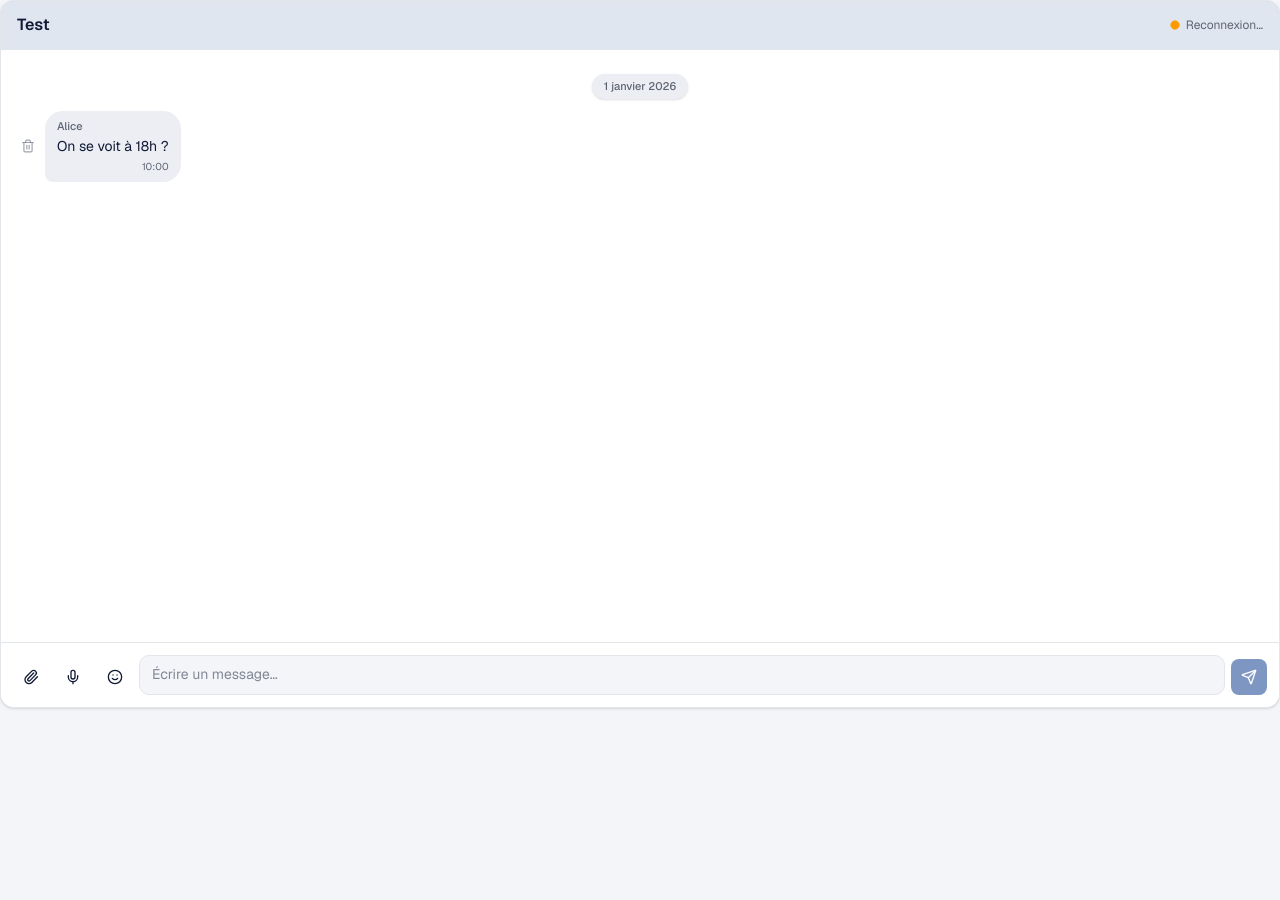
it: ChatConversation — répondre et transférer un message (issue #268) › opens reply and forward actions after a long press on a message
The image size is (1280, 900).
Expected: the text "On se voit à 18h ?" is shown, [57,137,169,155]
Right-click the text "On se voit à 18h ?".
right_click(99, 146)  # box [17,110,181,182]
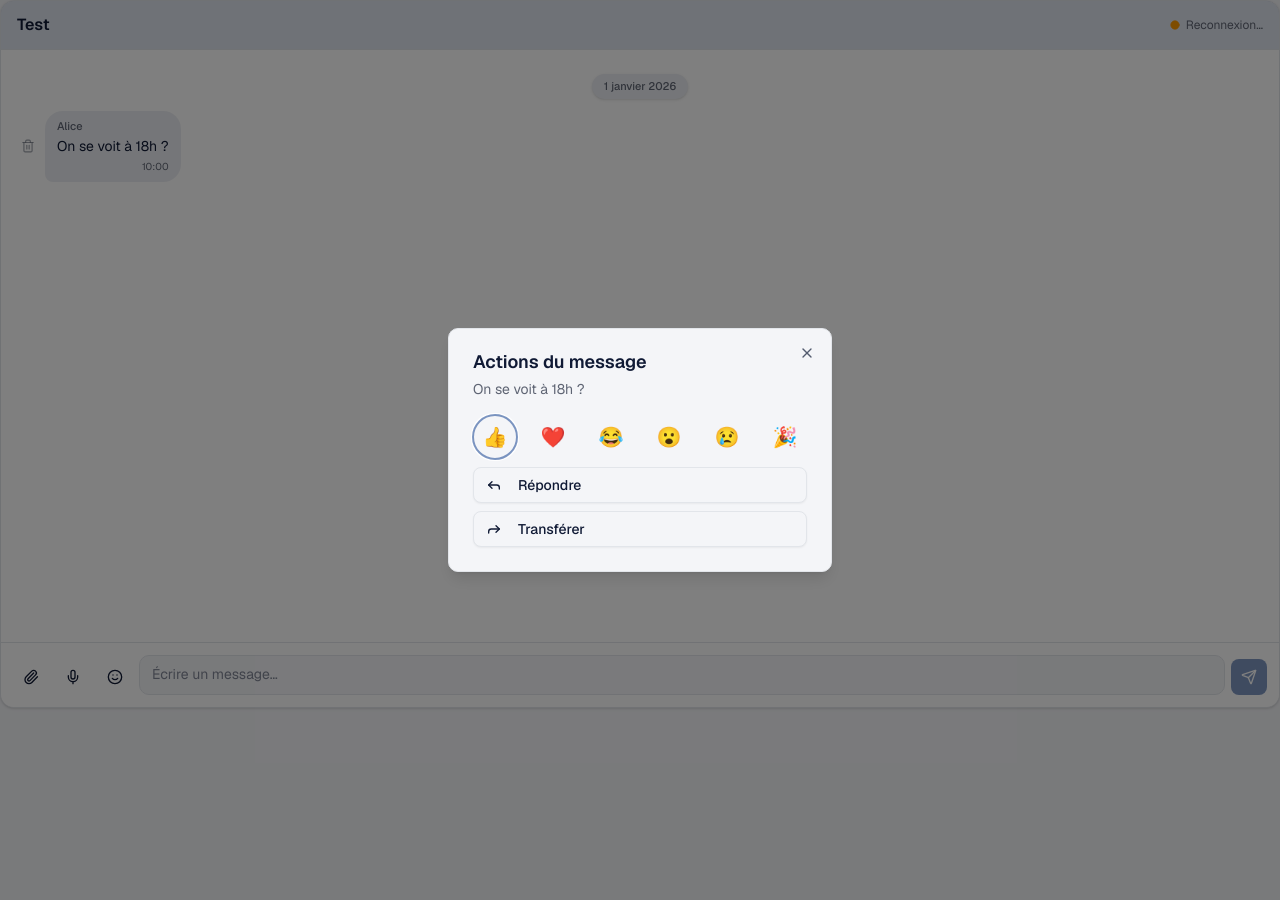
Now the button "Répondre" is shown
Now the button "Transférer" is shown, box [473,511,807,547]
Click the button "Répondre".
click(550, 485)  # box [473,467,807,503]
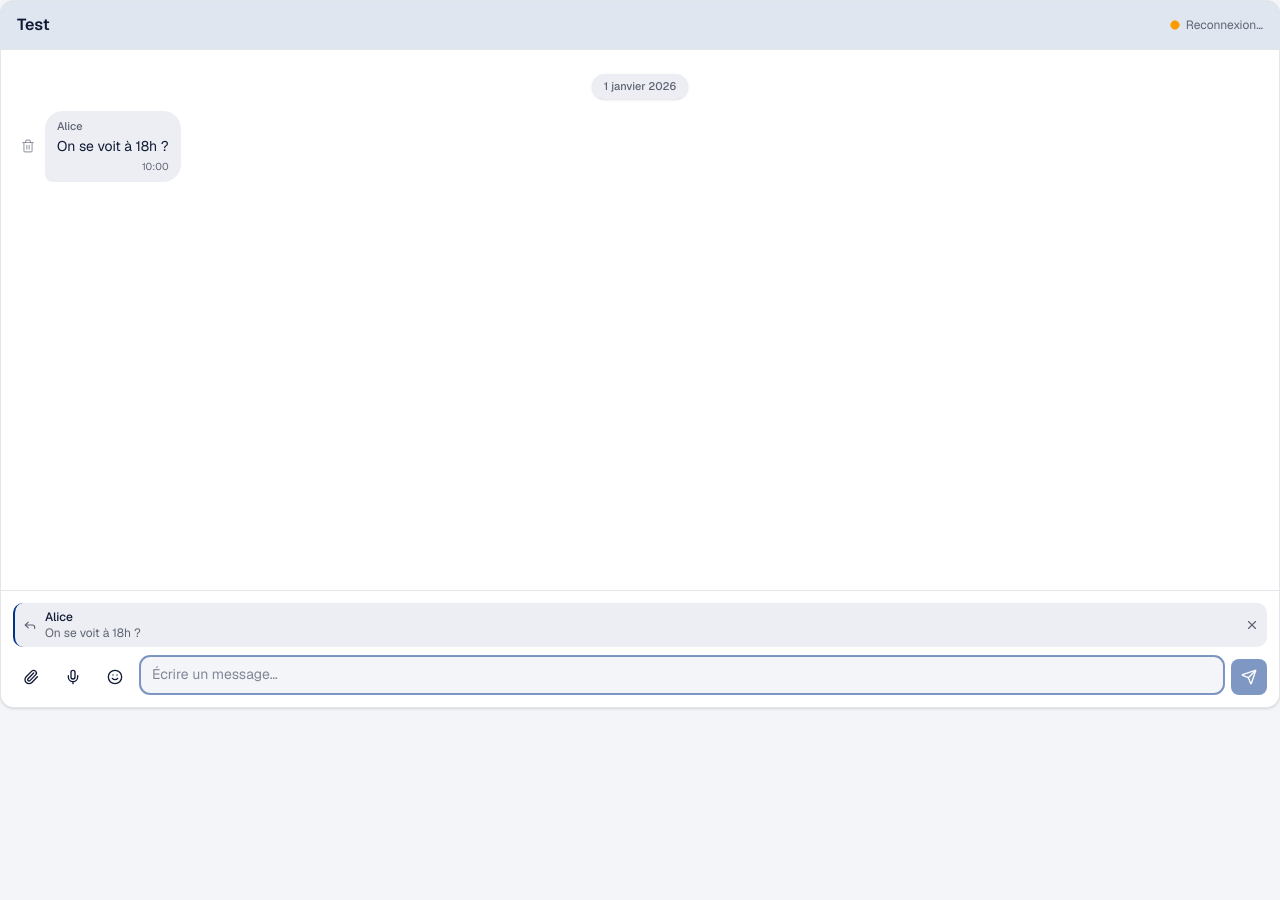
Now the button named "Annuler la réponse" is shown, box [1245,618,1259,632]
